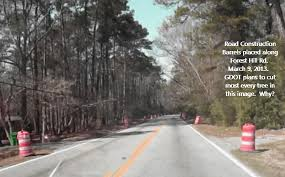barrel: (240, 123, 255, 151), (17, 132, 32, 156), (195, 114, 200, 124)
